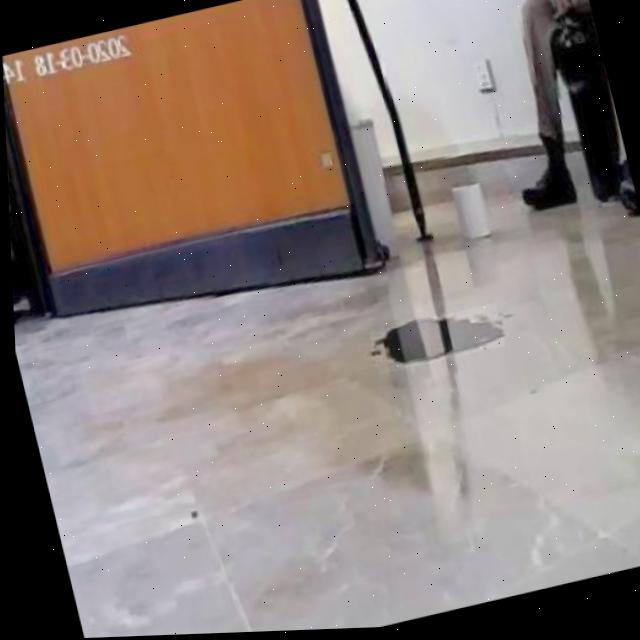spillage: (369, 324, 500, 370)
